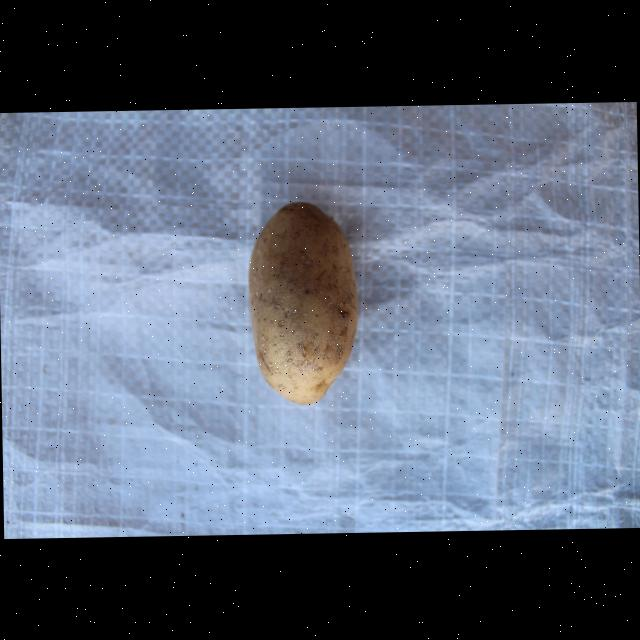Diseased-fungal potato: (247, 198, 361, 413)
